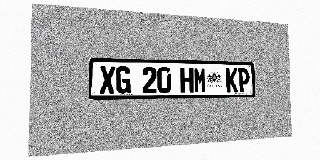0: (157, 67, 171, 93)
2: (143, 67, 157, 93)
G: (116, 66, 131, 94)
H: (180, 67, 194, 93)
K: (226, 68, 238, 92)
M: (194, 68, 207, 93)
P: (238, 68, 250, 92)
X: (100, 66, 115, 94)
